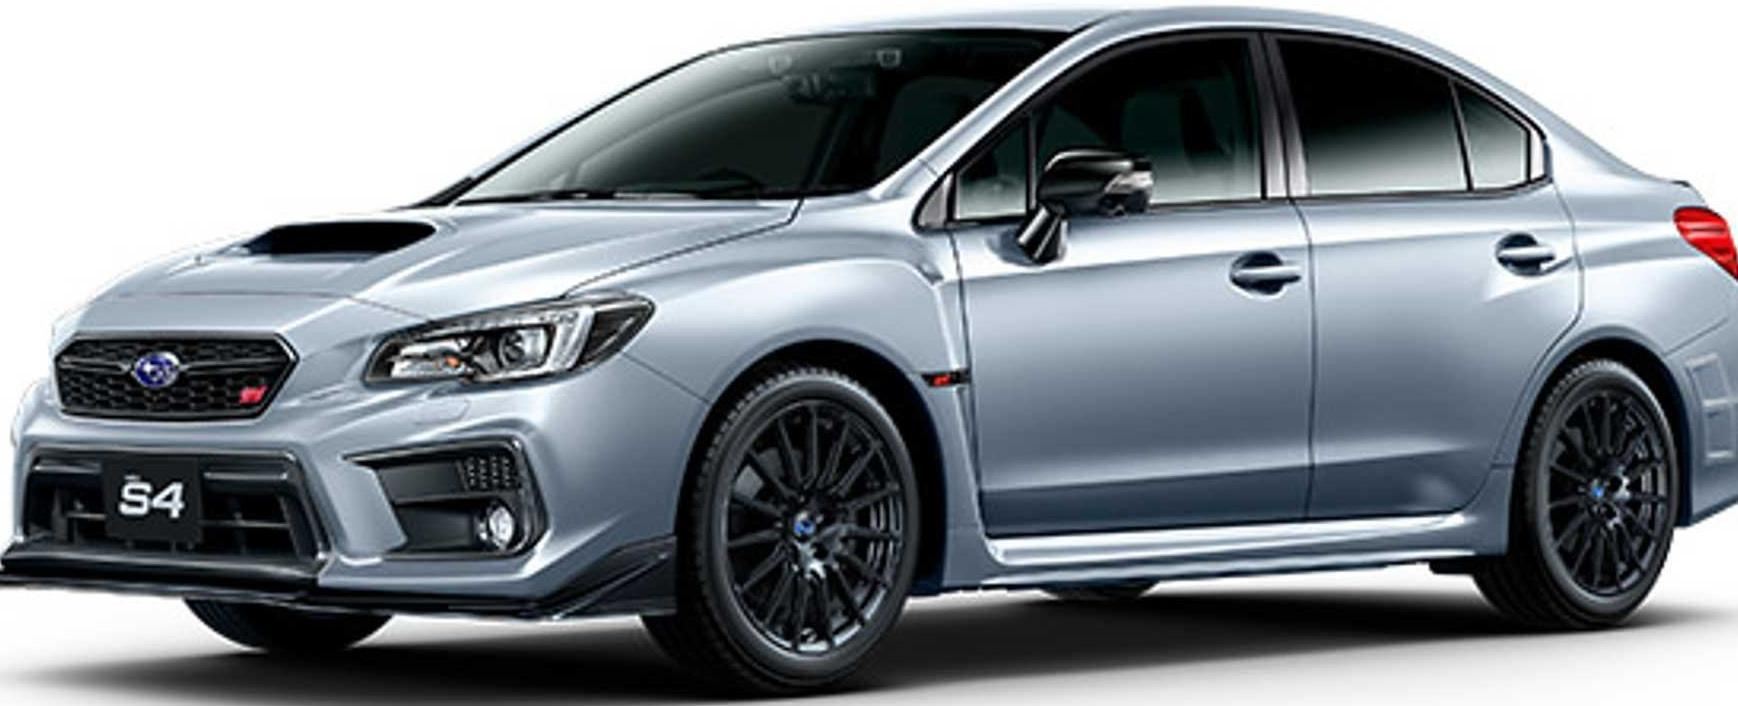Cars: (1, 8, 1738, 690)
